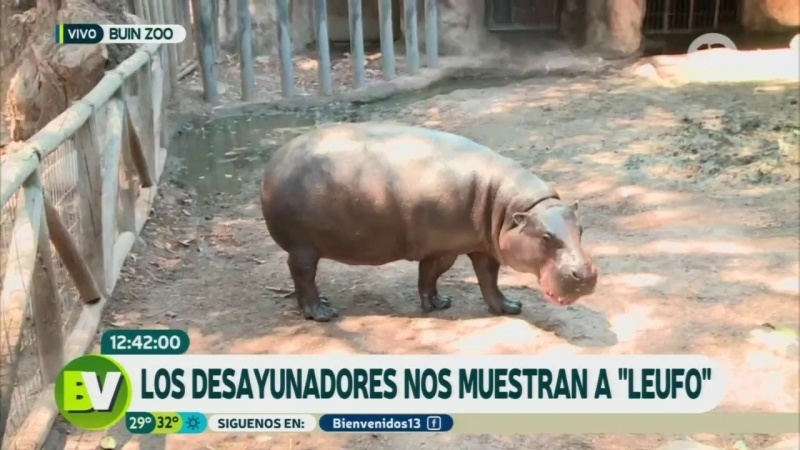hipopotamo: (239, 106, 608, 330)
